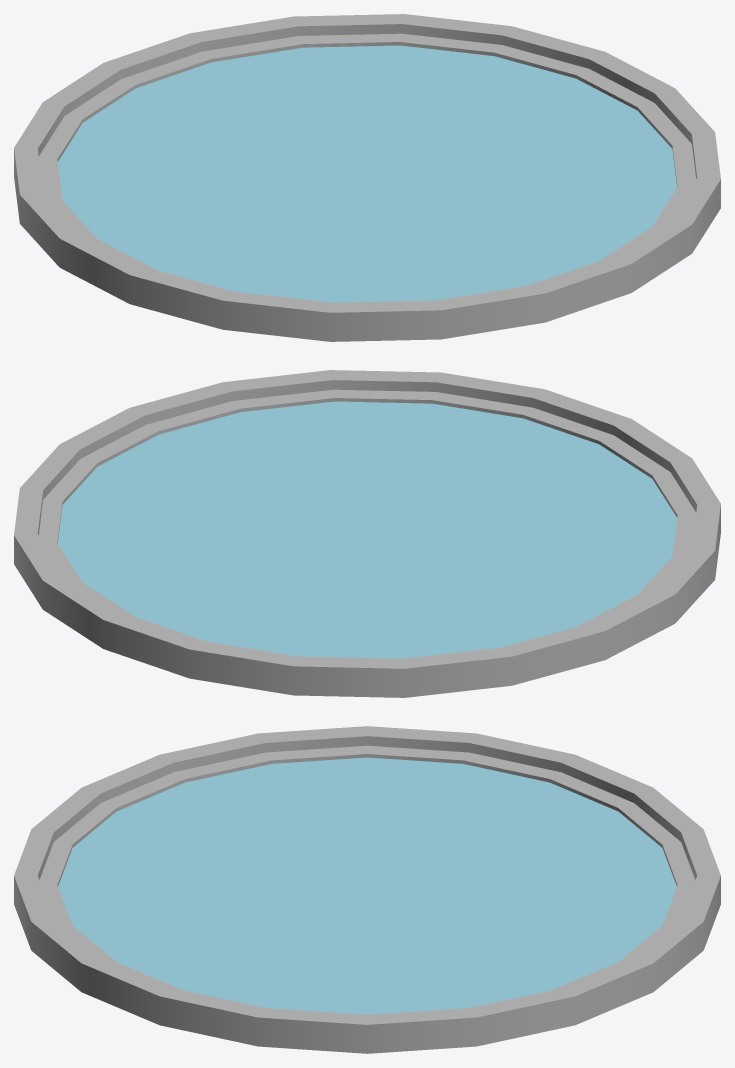
The model's file is MSH_CirculoPanel.fbx.
The picture shows the model from 3 angles, top to bottom: view 1: azimuth 30°, elevation 25°; view 2: azimuth 150°, elevation 25°; view 3: azimuth 270°, elevation 25°; orthographic projection.
Parts seen in each view (by area): view 1: polySurface62; view 2: polySurface62; view 3: polySurface62.
Boxes of the visible parts, <box> form: polySurface62: <box>14,14,720,341</box>; polySurface62: <box>14,370,720,697</box>; polySurface62: <box>14,726,720,1053</box>.
Bounding box in the file's own units: 11.26 × 0.5087 × 11.26.
